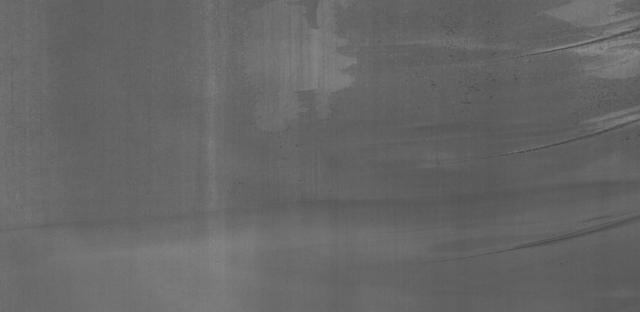crease: (491, 207, 640, 271), (506, 102, 640, 161), (524, 18, 640, 55)
